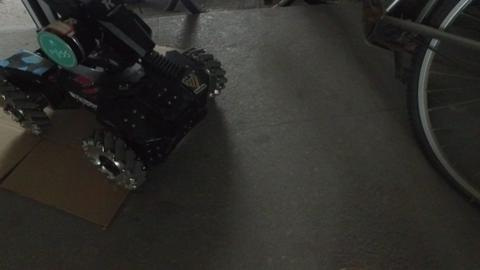chariot: (1, 1, 238, 174)
